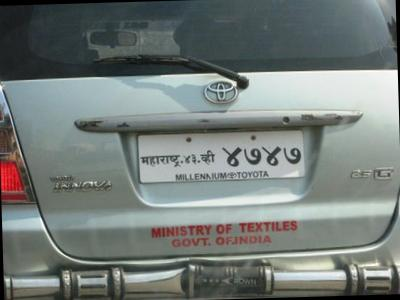plate: (134, 114, 321, 198)
